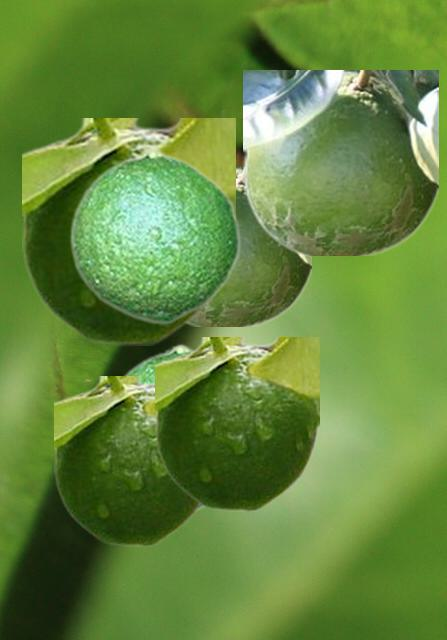dalandan: (22, 118, 234, 344), (243, 70, 437, 254), (68, 147, 240, 324), (155, 337, 318, 510), (54, 376, 202, 545), (187, 167, 310, 325), (119, 343, 207, 511)
